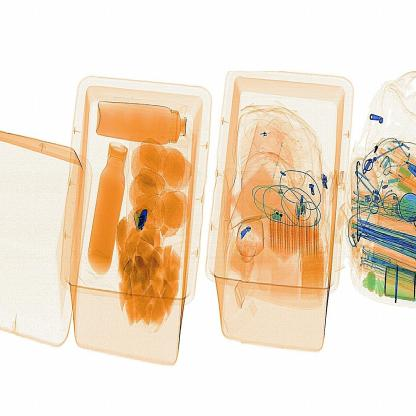wrench: (124, 202, 157, 235)
